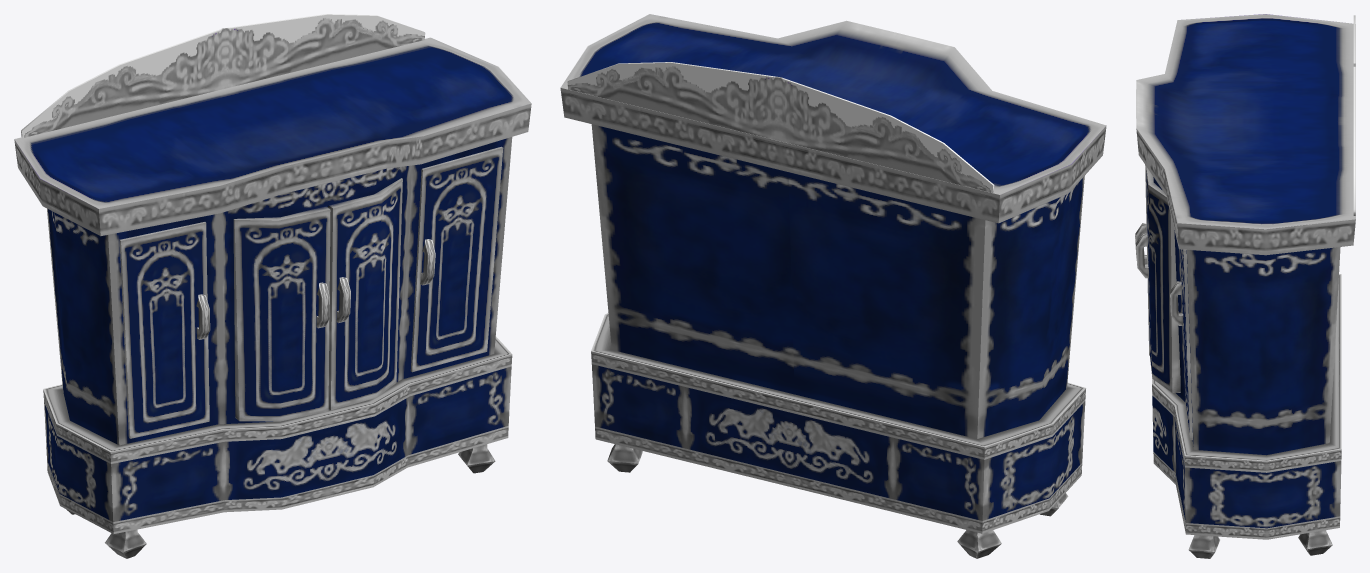
Rendered from EmpressCabinet_HD.fbx.
3 renders of one model, left to right at view 1: azimuth 30°, elevation 25°; view 2: azimuth 150°, elevation 25°; view 3: azimuth 270°, elevation 25°, orthographic. The views are drawn at different scales.
Parts seen in each view (by area): view 1: EmpressCabinet; view 2: EmpressCabinet; view 3: EmpressCabinet.
Boxes of the visible parts, x1=… form: EmpressCabinet: x1=14, y1=14, x2=531, y2=558; EmpressCabinet: x1=560, y1=14, x2=1106, y2=558; EmpressCabinet: x1=1135, y1=14, x2=1355, y2=558.
Bounding box in the file's own units: 1.93 × 1.71 × 0.8367.
